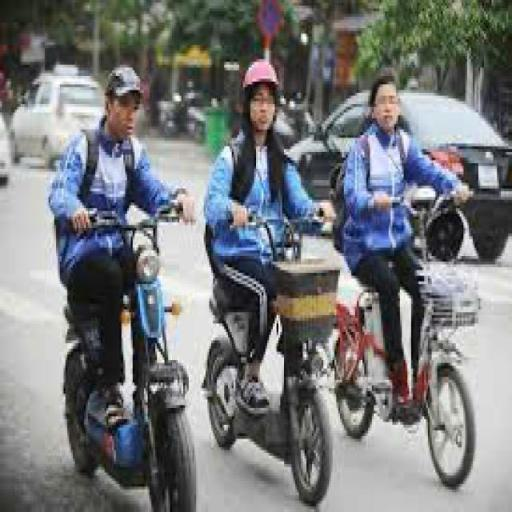with helmet: (104, 61, 145, 105), (239, 58, 286, 91)
